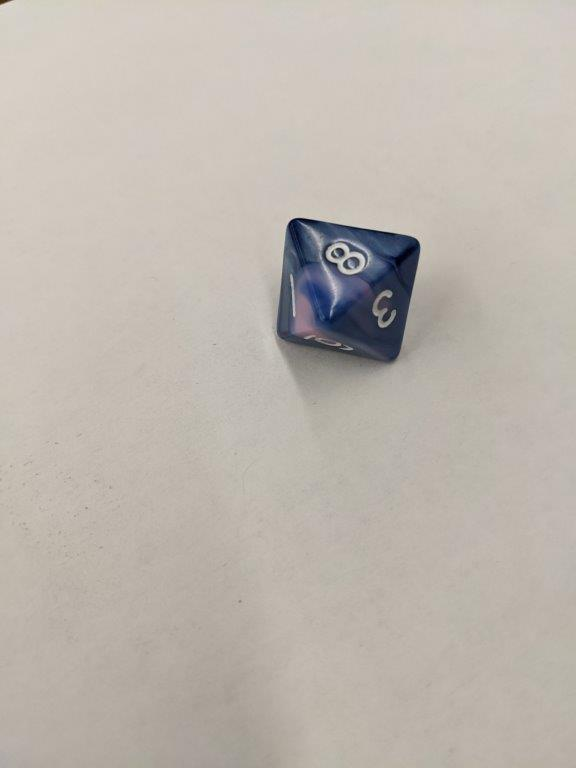d8-8: (272, 218, 420, 367)
